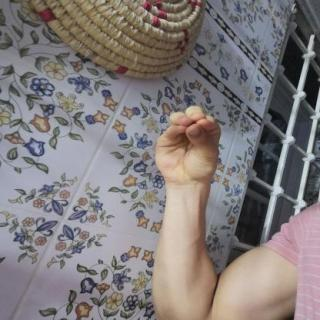HA: (144, 93, 238, 197)
